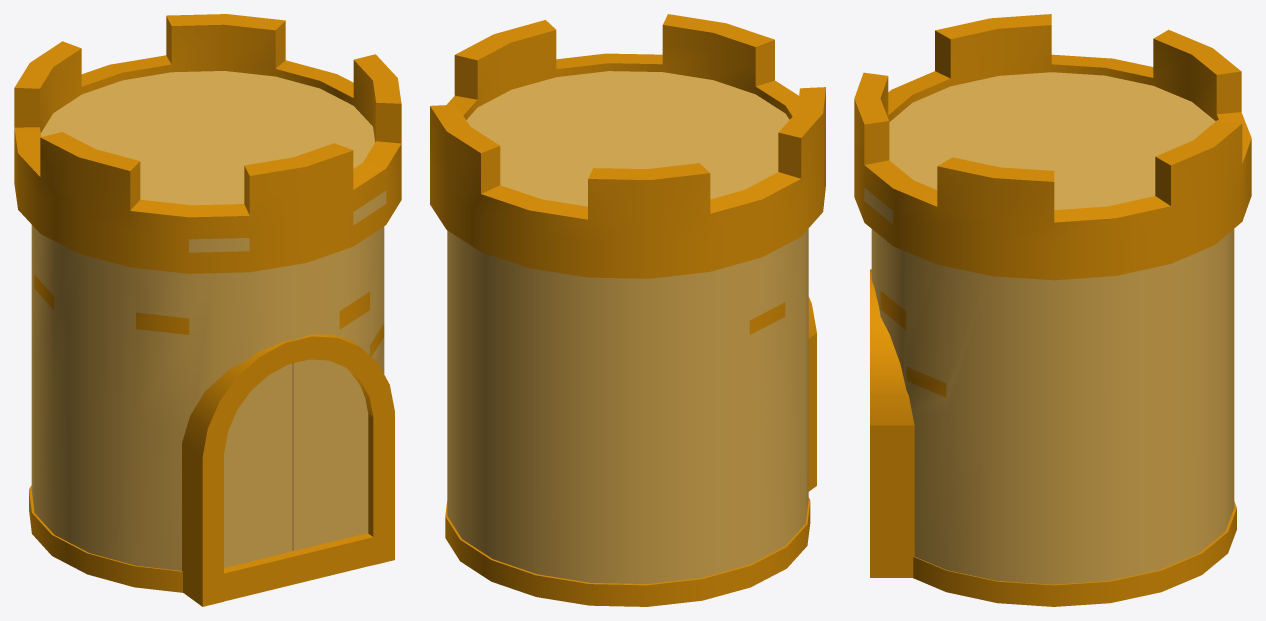
The model's file is castle.fbx.
3 renders of one model, left to right at view 1: azimuth 30°, elevation 25°; view 2: azimuth 150°, elevation 25°; view 3: azimuth 270°, elevation 25°, orthographic. The views are drawn at different scales.
Visible parts, largest first — view 1: pPipe2, polySurface2, polySurface5; view 2: pPipe2; view 3: pPipe2.
Boxes of the visible parts, x1,y1,x2,y2 form: pPipe2: (14,14,401,606); polySurface2: (292,359,368,550); polySurface5: (224,363,292,567); pPipe2: (430,14,825,606); pPipe2: (854,14,1251,606).
Bounding box in the file's own units: 7.46 × 8.94 × 7.46.
